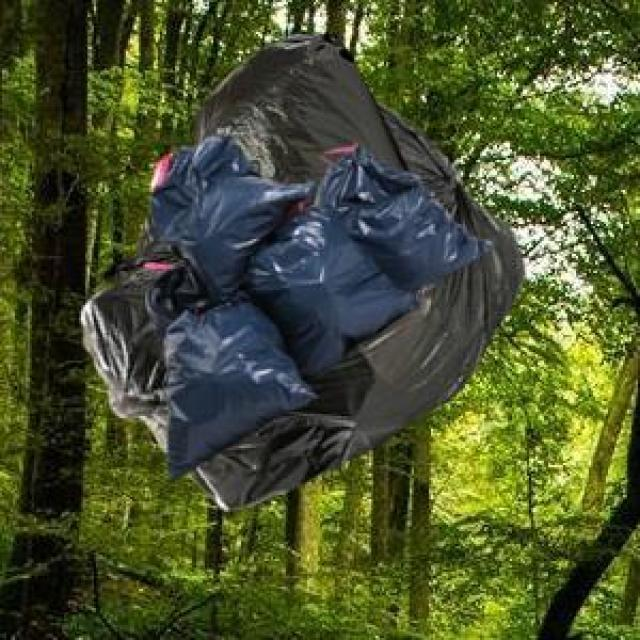miscellaneous trash: (79, 100, 521, 506), (141, 130, 491, 478), (98, 26, 440, 294)
